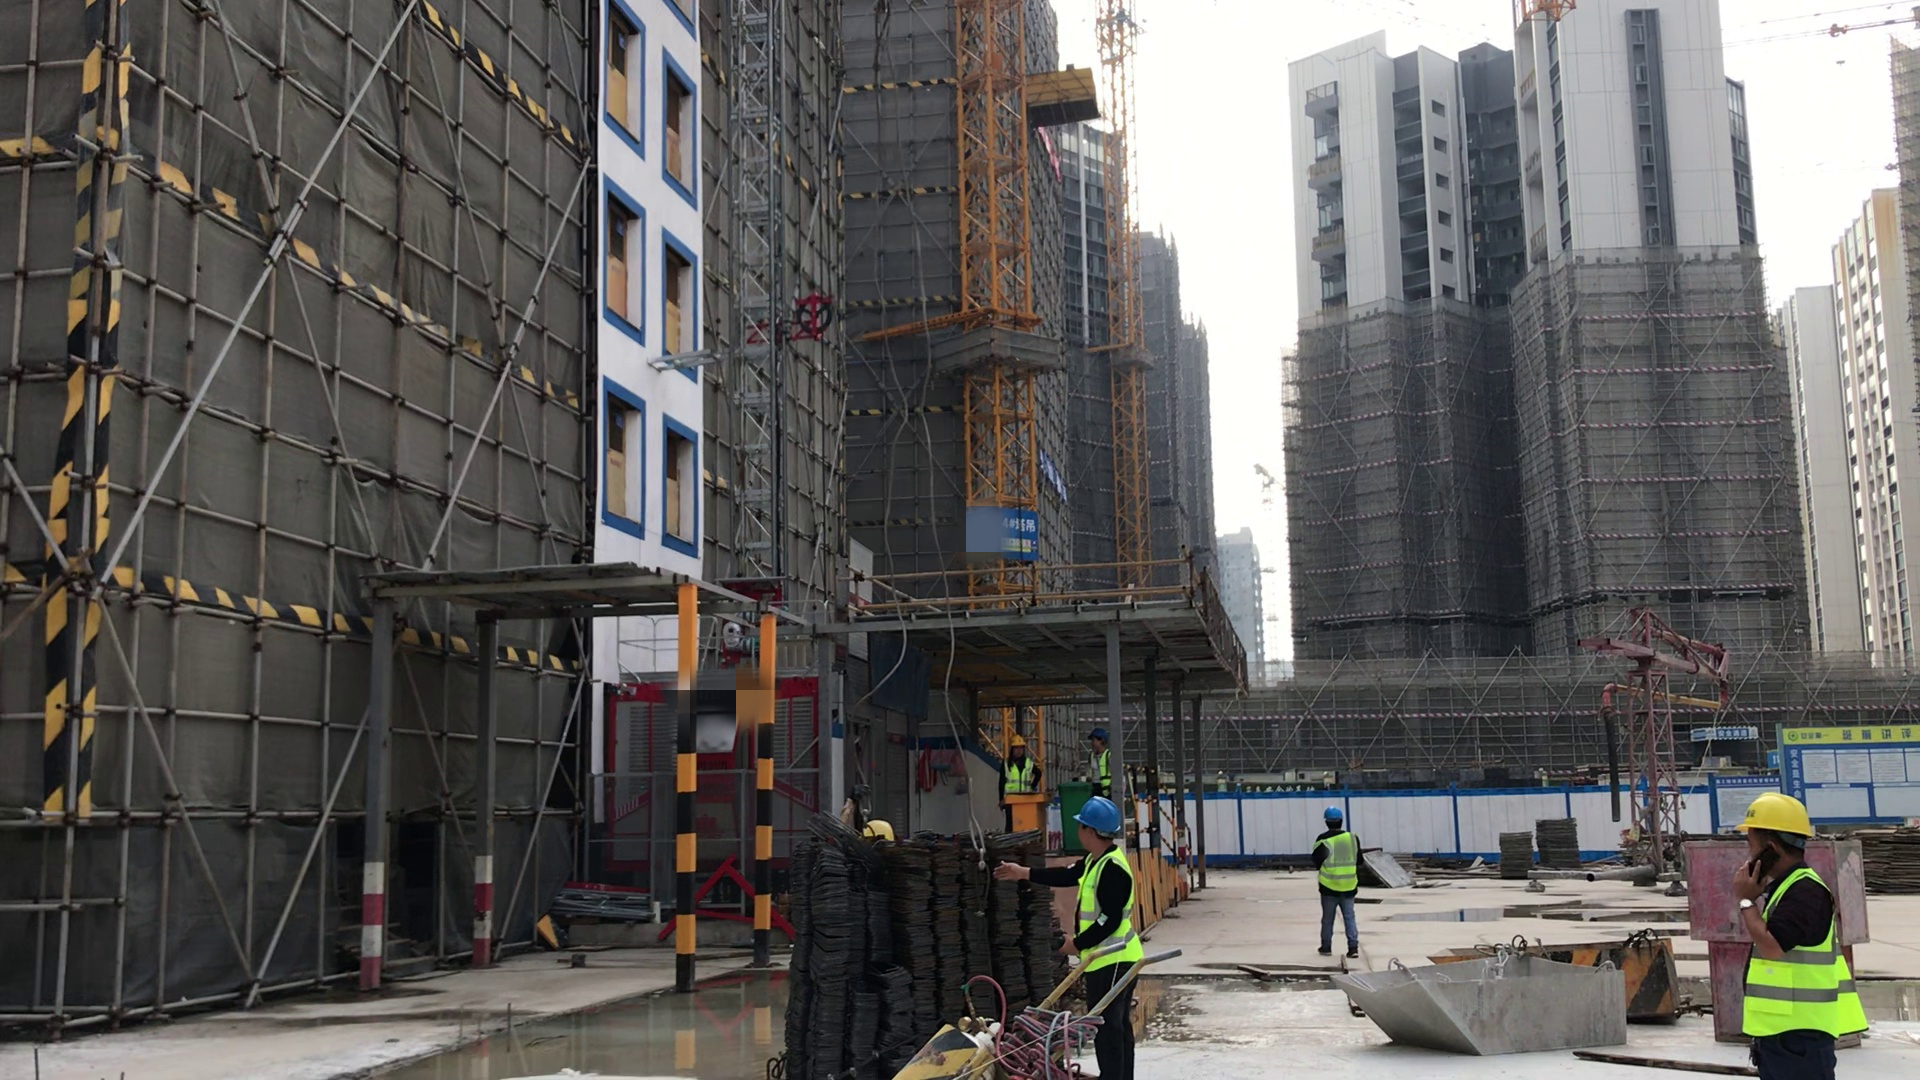board: (1861, 823, 1915, 899), (1536, 813, 1583, 868), (1495, 828, 1540, 879)
fence: (1111, 778, 1235, 874)
helmet: (1737, 787, 1824, 839), (1075, 800, 1122, 834), (865, 815, 901, 844), (1321, 804, 1349, 827), (1006, 731, 1028, 750), (1090, 725, 1106, 742)
hopper: (1335, 935, 1645, 1056), (1511, 927, 1693, 1013)
person: (1731, 779, 1868, 1080), (1036, 792, 1149, 1080), (1313, 798, 1371, 967), (999, 732, 1041, 796), (1083, 716, 1112, 799)
vest: (1746, 871, 1871, 1053), (1075, 850, 1142, 970), (1315, 831, 1362, 898), (1003, 753, 1032, 796), (1087, 748, 1112, 793)
